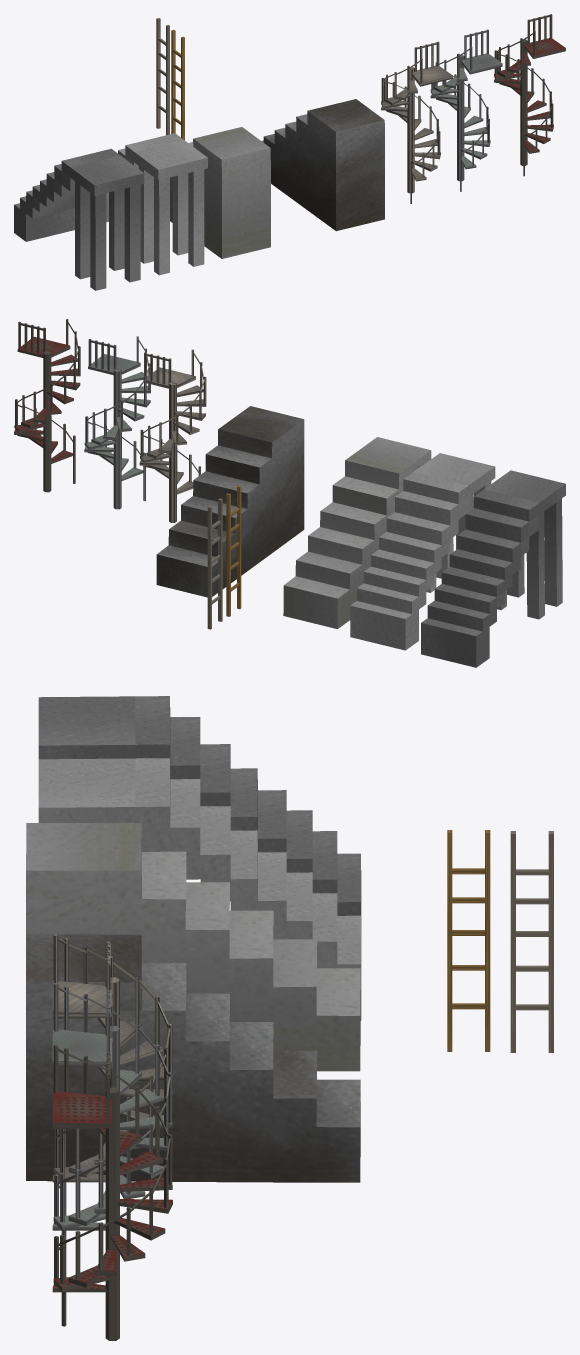
The model's file is escada_mod.fbx.
The picture shows the model from 3 angles, top to bottom: view 1: azimuth 30°, elevation 25°; view 2: azimuth 150°, elevation 25°; view 3: azimuth 270°, elevation 25°; orthographic projection. The views are drawn at different scales.
Parts seen in each view (by area): view 1: Cube.002, Cube.006, Cube.005, Cube.003, Cube.004, Cube.000, Cube.001, Cube.009, Cube.007; view 2: Cube.006, Cube.002, Cube.005, Cube.003, Cube.000, Cube.001, Cube.004, Cube.009, Cube.007; view 3: Cube.002, Cube.003, Cube.005, Cube.006, Cube.000, Cube.001, Cube.004, Cube.009, Cube.007.
Boxes of the visible parts, left/top/right/bottom form: Cube.002: left=261, top=99, right=384, bottom=231; Cube.006: left=14, top=148, right=144, bottom=290; Cube.005: left=106, top=133, right=207, bottom=275; Cube.003: left=170, top=127, right=270, bottom=258; Cube.004: left=381, top=41, right=452, bottom=203; Cube.000: left=494, top=14, right=565, bottom=176; Cube.001: left=430, top=29, right=502, bottom=191; Cube.009: left=156, top=18, right=169, bottom=135; Cube.007: left=171, top=30, right=184, bottom=140; Cube.006: left=421, top=470, right=565, bottom=667; Cube.002: left=156, top=406, right=304, bottom=597; Cube.005: left=350, top=453, right=495, bottom=650; Cube.003: left=283, top=437, right=431, bottom=629; Cube.000: left=14, top=319, right=80, bottom=492; Cube.001: left=84, top=336, right=150, bottom=509; Cube.004: left=139, top=349, right=206, bottom=522; Cube.009: left=207, top=498, right=222, bottom=629; Cube.007: left=226, top=485, right=241, bottom=616; Cube.002: left=26, top=934, right=360, bottom=1182; Cube.003: left=26, top=823, right=360, bottom=1071; Cube.005: left=38, top=758, right=361, bottom=1020; Cube.006: left=38, top=696, right=361, bottom=932; Cube.000: left=52, top=1044, right=172, bottom=1340; Cube.001: left=52, top=983, right=172, bottom=1239; Cube.004: left=52, top=934, right=172, bottom=1182; Cube.009: left=510, top=831, right=553, bottom=1052; Cube.007: left=447, top=830, right=490, bottom=1051.
Size of the model in its own units: 1361 by 409 by 655.
